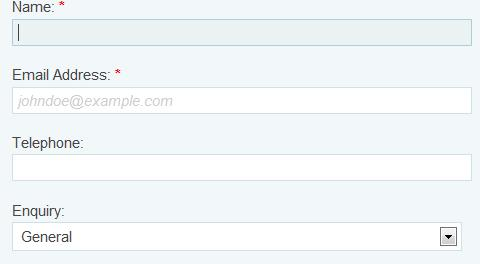field: (7, 17, 473, 48), (8, 85, 474, 115), (6, 152, 472, 181)
